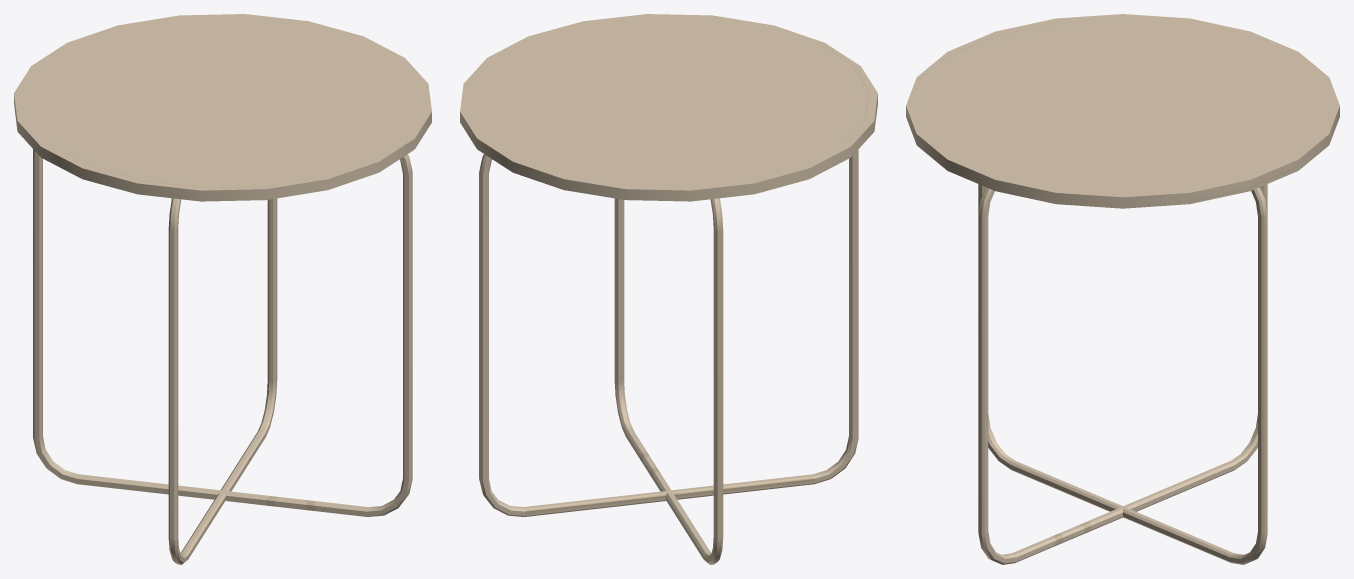
Rendered from frl_apartment_table_04.glb.
3 views of the same model, side by side, from view 1: azimuth 30°, elevation 25°; view 2: azimuth 150°, elevation 25°; view 3: azimuth 270°, elevation 25° (orthographic). The views are drawn at different scales.
Visible parts, largest first — view 1: frl_apartment_table_04; view 2: frl_apartment_table_04; view 3: frl_apartment_table_04.
Boxes of the visible parts, box(x1,y1,x2,y2) form: frl_apartment_table_04: box(14, 14, 431, 564); frl_apartment_table_04: box(460, 14, 877, 564); frl_apartment_table_04: box(906, 14, 1339, 564).
Bounding box in the file's own units: 0.4708 × 0.4914 × 0.4708.
Materials: 1 (1 with a texture image).
